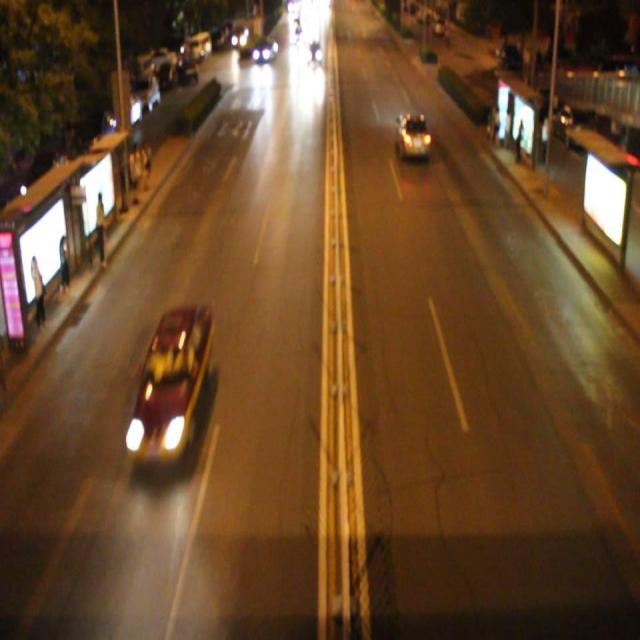car: (126, 301, 216, 460), (395, 105, 429, 160)
